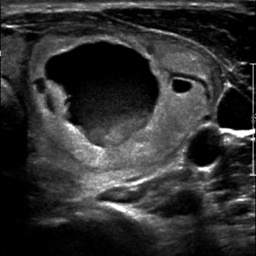mass: (28, 30, 221, 175)
